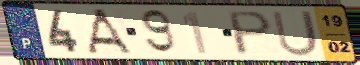1: (181, 10, 209, 55)
4: (47, 8, 81, 54)
9: (139, 8, 179, 56)
A: (86, 7, 135, 56)
P: (226, 9, 275, 57)
U: (269, 9, 321, 58)
